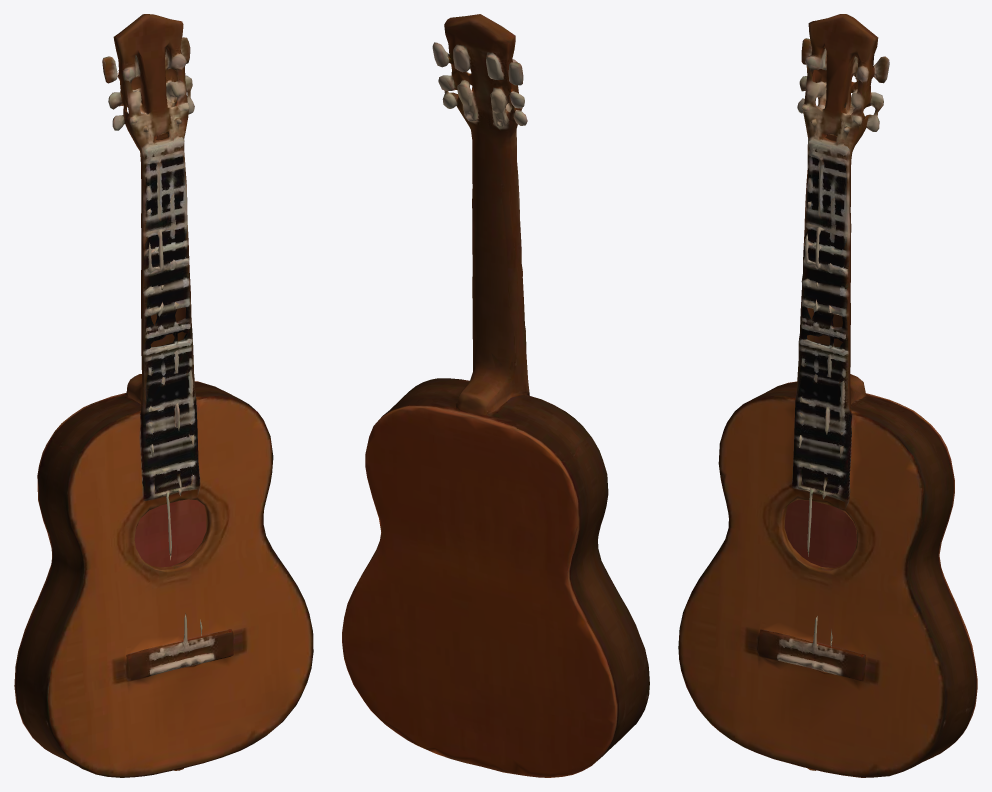
File: guitarra.glb
3 renders of one model, left to right at view 1: azimuth 30°, elevation 25°; view 2: azimuth 150°, elevation 25°; view 3: azimuth 330°, elevation 25°, orthographic. The views are drawn at different scales.
Visible parts, largest first — view 1: geometry_0; view 2: geometry_0; view 3: geometry_0.
Boxes of the visible parts, bbox=[...] form: geometry_0: bbox=[14, 14, 313, 777]; geometry_0: bbox=[342, 14, 649, 777]; geometry_0: bbox=[678, 14, 977, 777].
Size of the model in its own units: 0.38 by 1 by 0.1199.
Materials: 1 (1 with a texture image).
